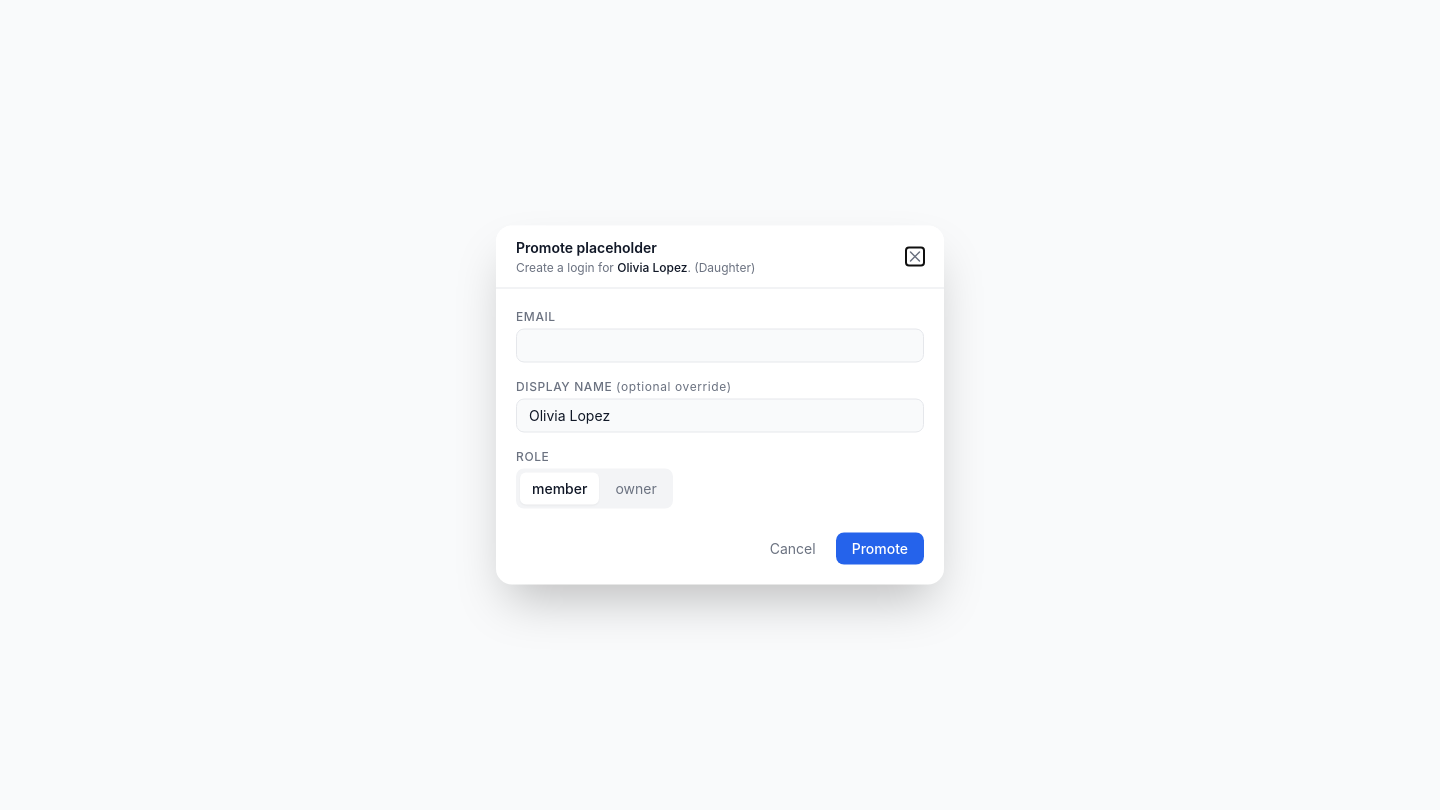
it: <PromotePlaceholderDialog> › surfaces the mutation error inline
Type "olivia@example.com" into the field labelled "Email".
click(720, 346); type("olivia@example.com")  # box [516, 328, 924, 362]
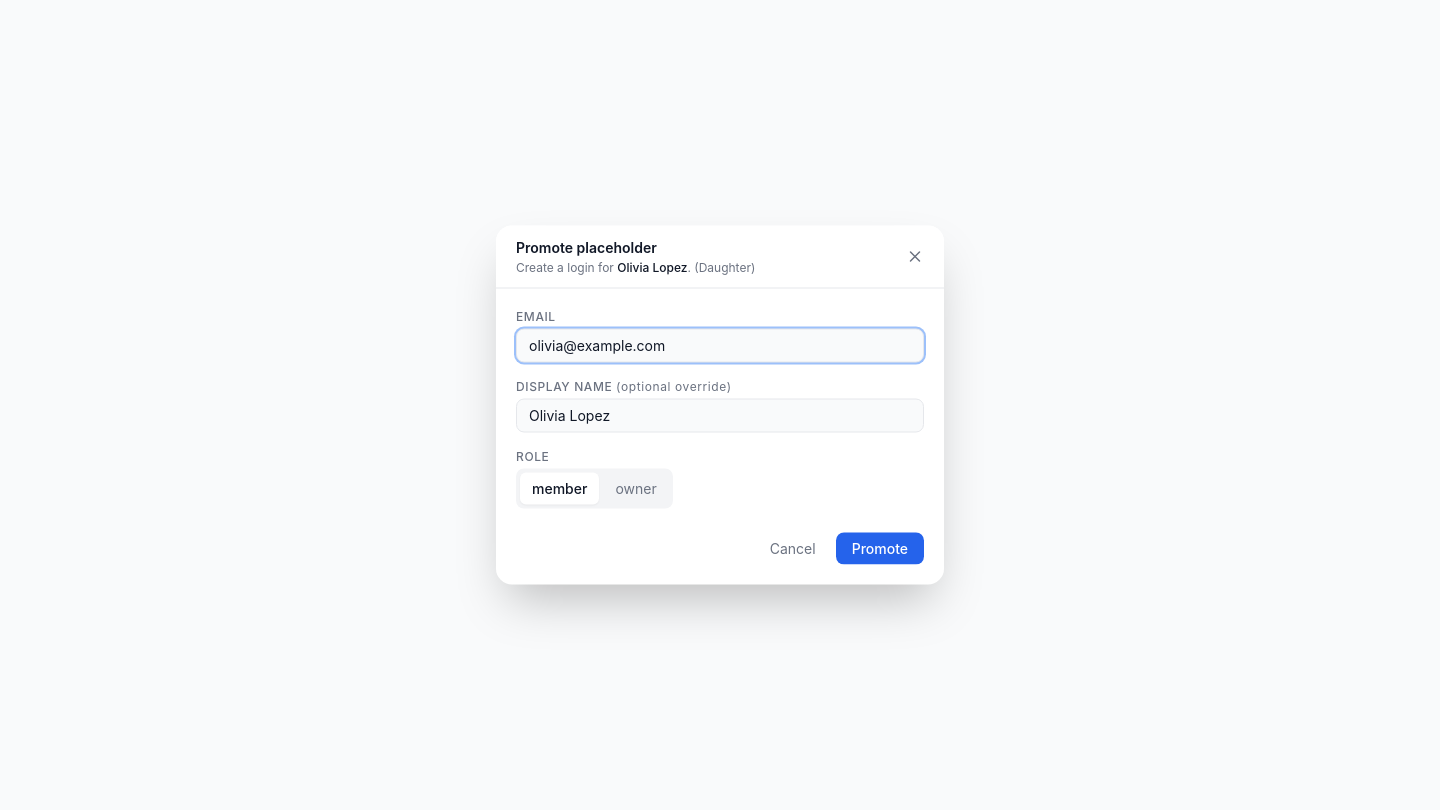
Click the button "Promote".
click(880, 548)  # box [836, 532, 924, 564]
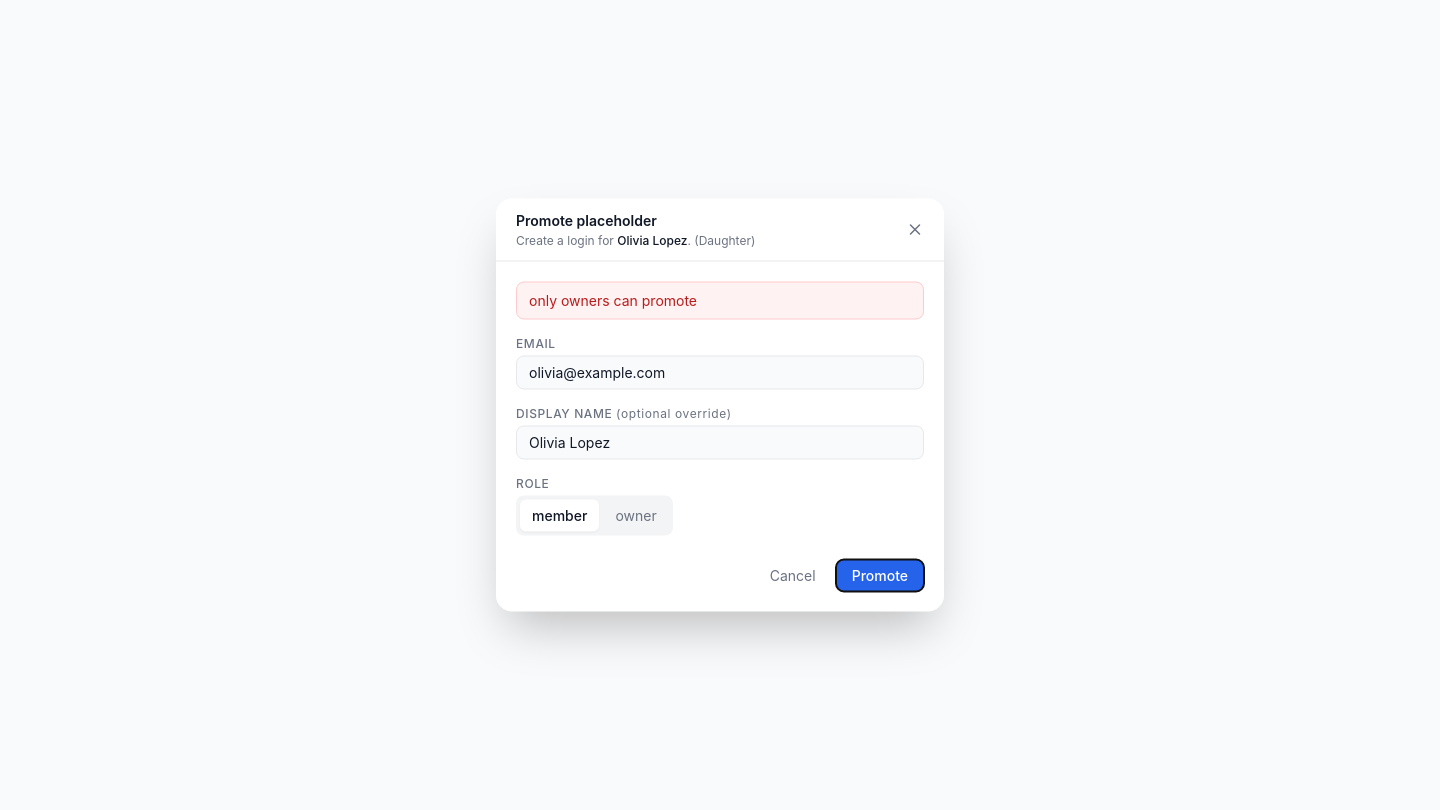
expect the message reads "only owners can promote": met, box [529, 292, 697, 308]
